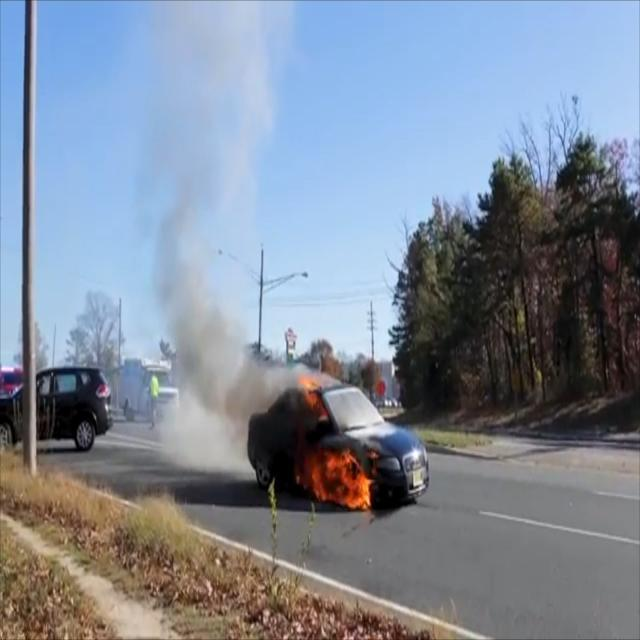fire: (295, 364, 374, 510)
